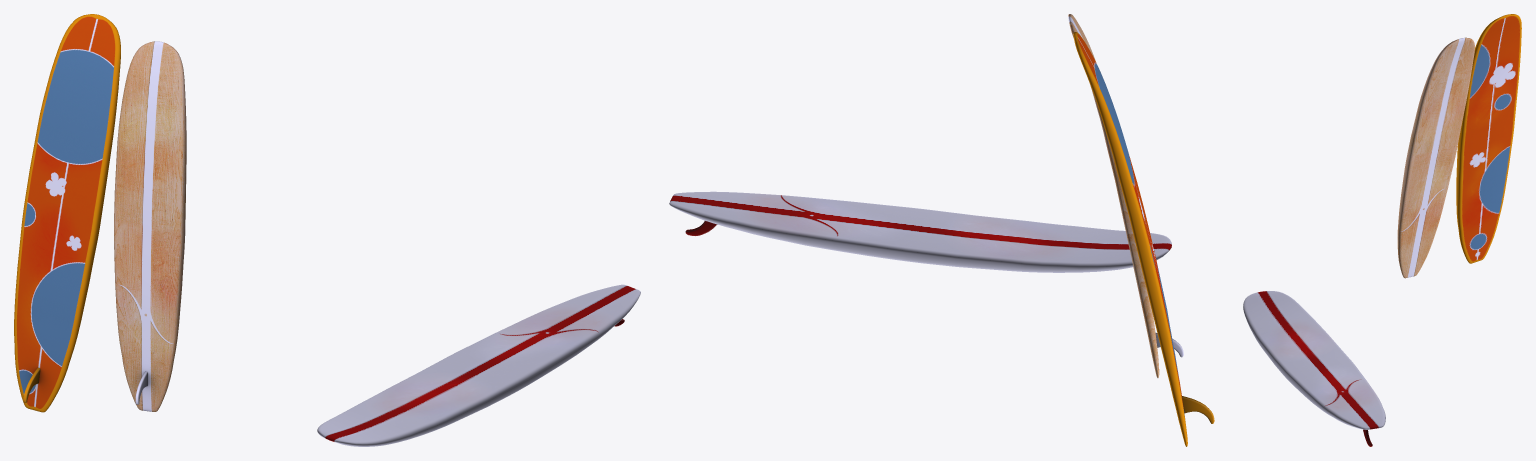
The model's file is Surfboards4.obj.
The picture shows the model from 3 angles, left to right: view 1: azimuth 30°, elevation 25°; view 2: azimuth 150°, elevation 25°; view 3: azimuth 270°, elevation 25°; orthographic projection. The views are drawn at different scales.
Parts seen in each view (by area): view 1: Plane03_1, Plane03_2, Plane03; view 2: Plane03, Plane03_1, Plane03_2; view 3: Plane03_1, Plane03_2, Plane03.
Part boxes in pixels (<box>): Plane03_1: <box>14,14,120,412</box>; Plane03_2: <box>114,41,186,411</box>; Plane03: <box>317,284,640,446</box>; Plane03: <box>669,191,1171,272</box>; Plane03_1: <box>1073,32,1214,446</box>; Plane03_2: <box>1068,14,1183,377</box>; Plane03_1: <box>1456,14,1521,263</box>; Plane03_2: <box>1397,37,1474,278</box>; Plane03: <box>1243,291,1385,446</box>.
Bounding box in the file's own units: 1.14 × 0.7152 × 0.6507.
3 materials, 3 textured.
